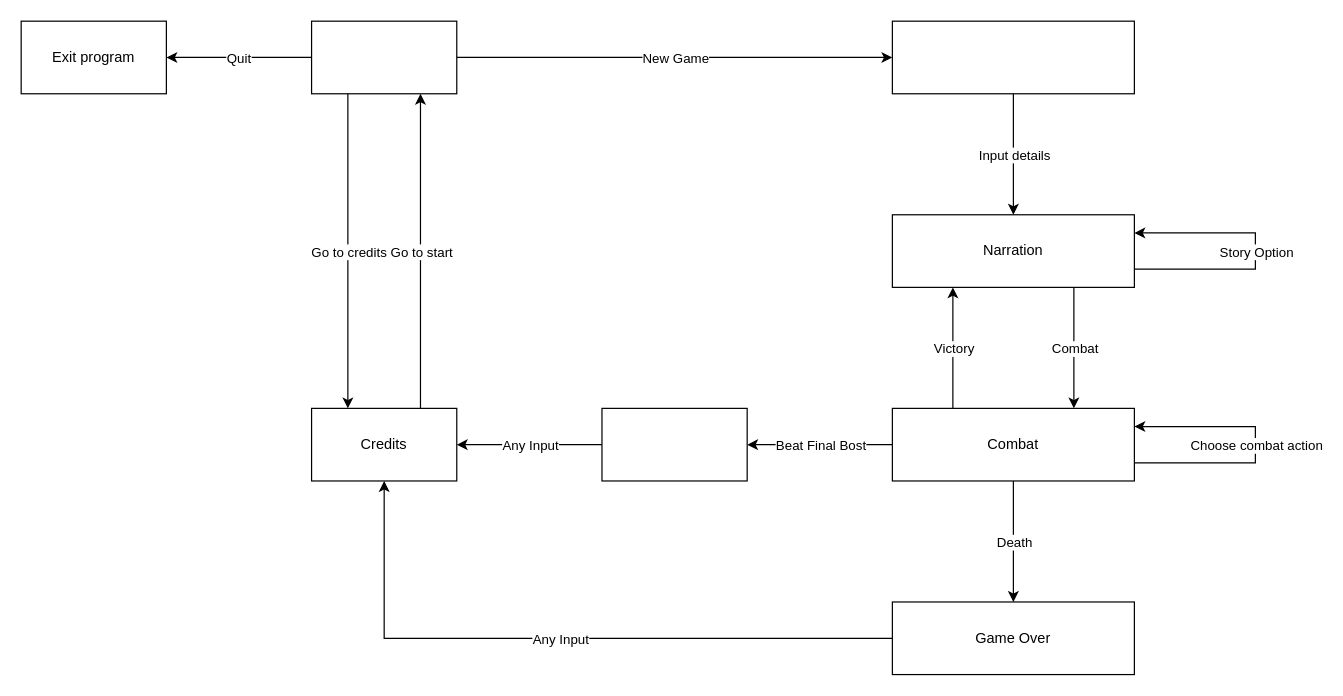
The diagram is 1343 pixels wide and 696 high, and some of its shapes have lost their labels. Here are the shapes that lost their labels. From the top down, the box of each, then its label:
(310, 20, 457, 94): Start
(891, 20, 1134, 94): Character Creation
(601, 407, 747, 481): You Win
